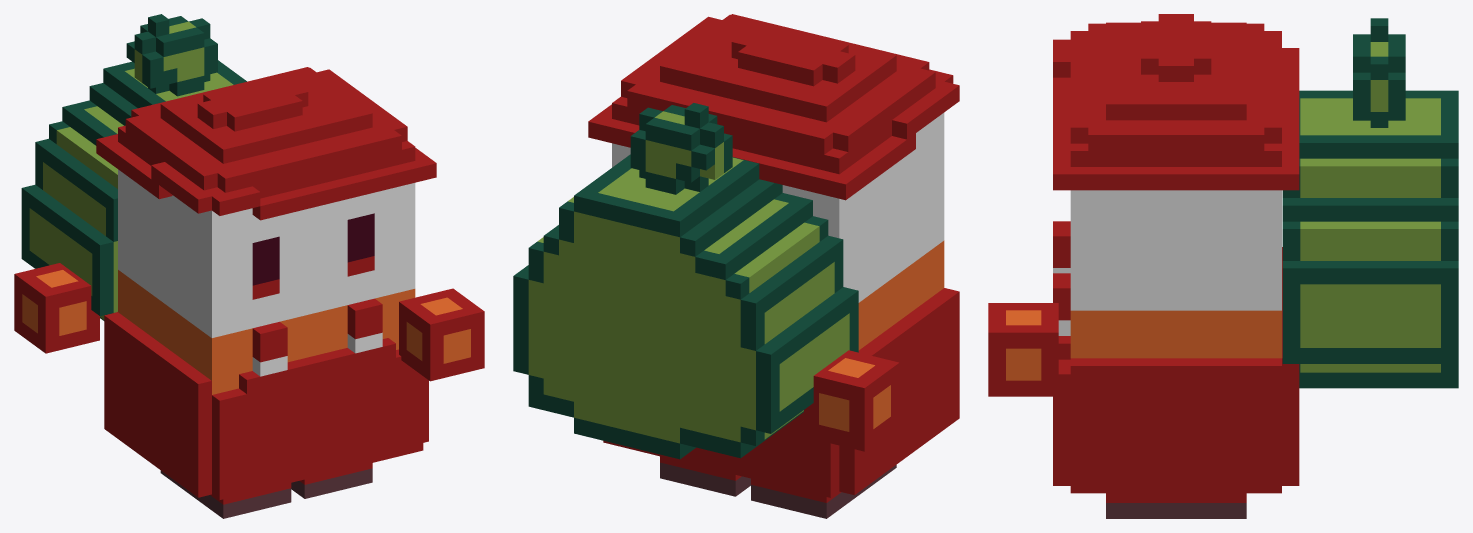
The model's file is p4SegGrab.gltf.
The picture shows the model from 3 angles, left to right: view 1: azimuth 30°, elevation 25°; view 2: azimuth 150°, elevation 25°; view 3: azimuth 270°, elevation 25°; orthographic projection. The views are drawn at different scales.
Visible parts, largest first — view 1: Object_0.001, Object_0.003, Object_0.004, Object_0; view 2: Object_0.003, Object_0.001, Object_0; view 3: Object_0.001, Object_0.003, Object_0.004.
Boxes of the visible parts, left/top/right/bottom form: Object_0.001: left=96, top=67, right=436, bottom=518; Object_0.003: left=21, top=14, right=246, bottom=320; Object_0.004: left=399, top=288, right=484, bottom=381; Object_0: left=14, top=263, right=99, bottom=353; Object_0.003: left=513, top=103, right=858, bottom=459; Object_0.001: left=588, top=14, right=959, bottom=518; Object_0: left=804, top=350, right=899, bottom=451; Object_0.001: left=1053, top=14, right=1299, bottom=518; Object_0.003: left=1282, top=18, right=1458, bottom=388; Object_0.004: left=988, top=303, right=1058, bottom=396.
Size of the model in its own units: 2.2 by 2.8 by 2.67.
Materials: 4 (4 with a texture image).
